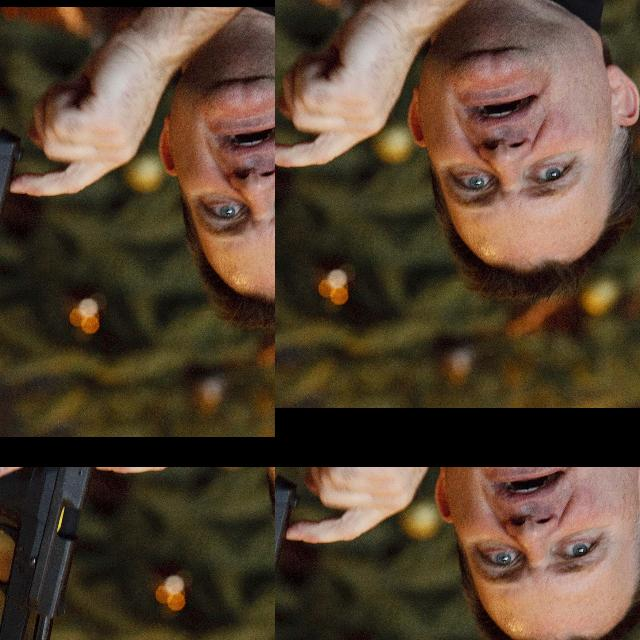handgun: (0, 233, 275, 387), (275, 467, 345, 640), (592, 354, 640, 402)
